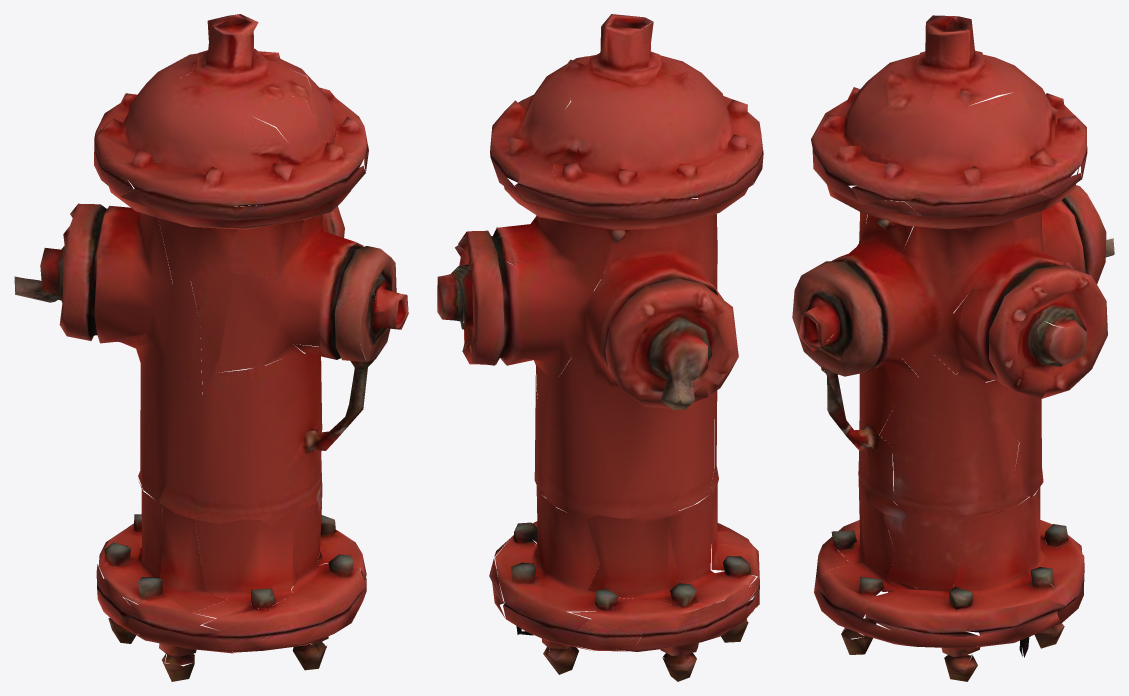
Rendered from hydrant.glb.
3 views of the same model, side by side, from view 1: azimuth 30°, elevation 25°; view 2: azimuth 150°, elevation 25°; view 3: azimuth 270°, elevation 25° (orthographic).
Visible parts, largest first — view 1: tripo_node_9e36f086-901f-4a95-9617-08626c5fe2da; view 2: tripo_node_9e36f086-901f-4a95-9617-08626c5fe2da; view 3: tripo_node_9e36f086-901f-4a95-9617-08626c5fe2da.
Boxes of the visible parts, left/top/right/bottom form: tripo_node_9e36f086-901f-4a95-9617-08626c5fe2da: left=14, top=14, right=408, bottom=681; tripo_node_9e36f086-901f-4a95-9617-08626c5fe2da: left=437, top=14, right=763, bottom=681; tripo_node_9e36f086-901f-4a95-9617-08626c5fe2da: left=792, top=15, right=1114, bottom=681.
Bounding box in the file's own units: 0.3845 × 0.801 × 0.3806.
Materials: 1 (1 with a texture image).
